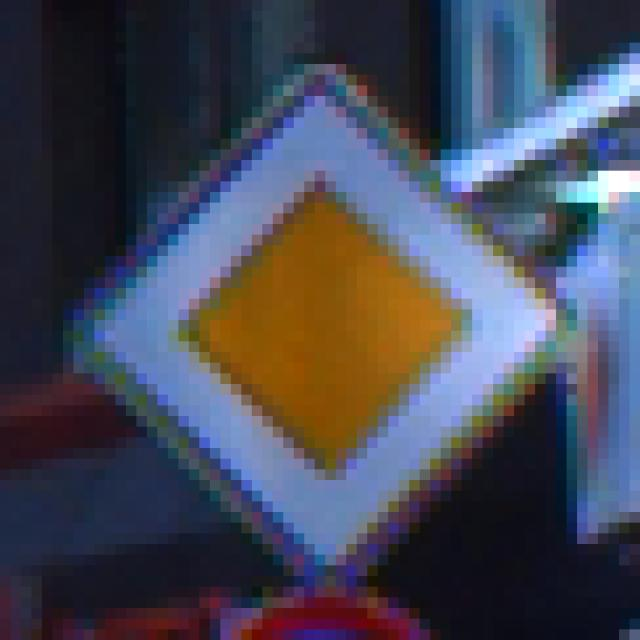Main Road: (64, 54, 588, 588)
